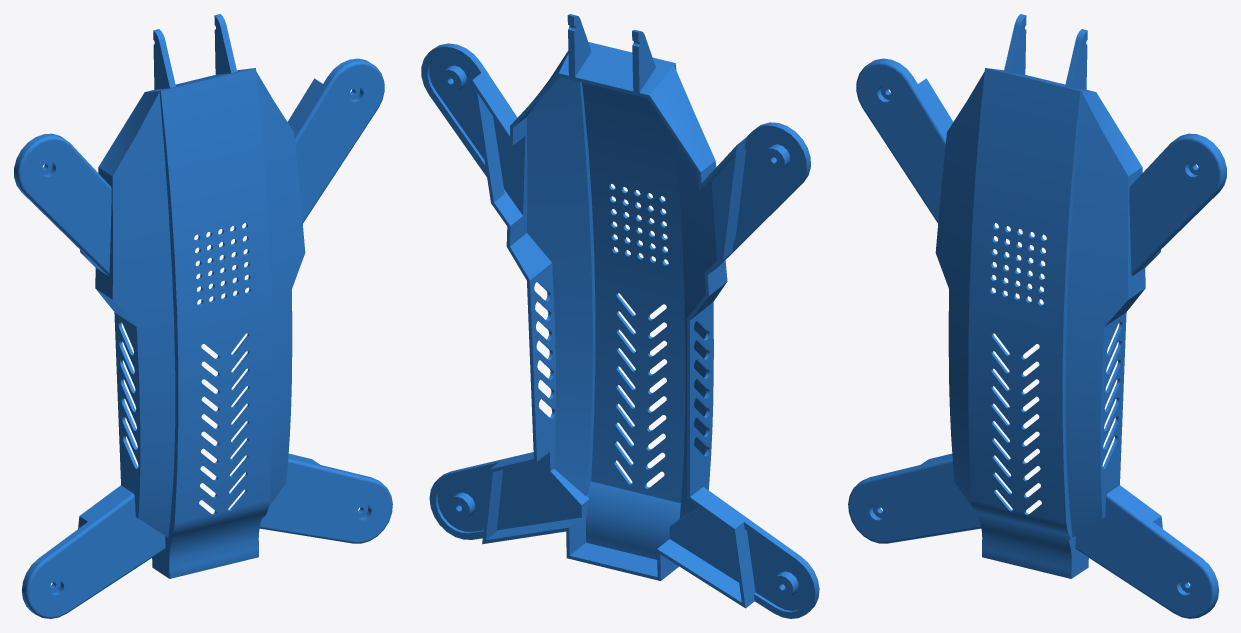
File: Main frame_MIR.gltf
The picture shows the model from 3 angles, left to right: view 1: azimuth 30°, elevation 25°; view 2: azimuth 150°, elevation 25°; view 3: azimuth 330°, elevation 25°; orthographic projection. The views are drawn at different scales.
Visible parts, largest first — view 1: Solid1; view 2: Solid1; view 3: Solid1.
Part boxes in pixels (bbox=[...]): Solid1: bbox=[14, 14, 392, 618]; Solid1: bbox=[421, 14, 819, 618]; Solid1: bbox=[848, 14, 1226, 618].
Size of the model in its own units: 12.3 by 17.34 by 2.25.
